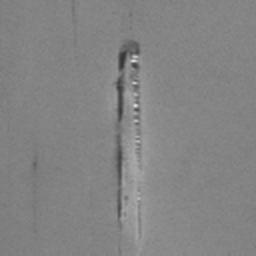Slag inclusion: (114, 38, 144, 172), (114, 132, 126, 224), (30, 158, 38, 170)
